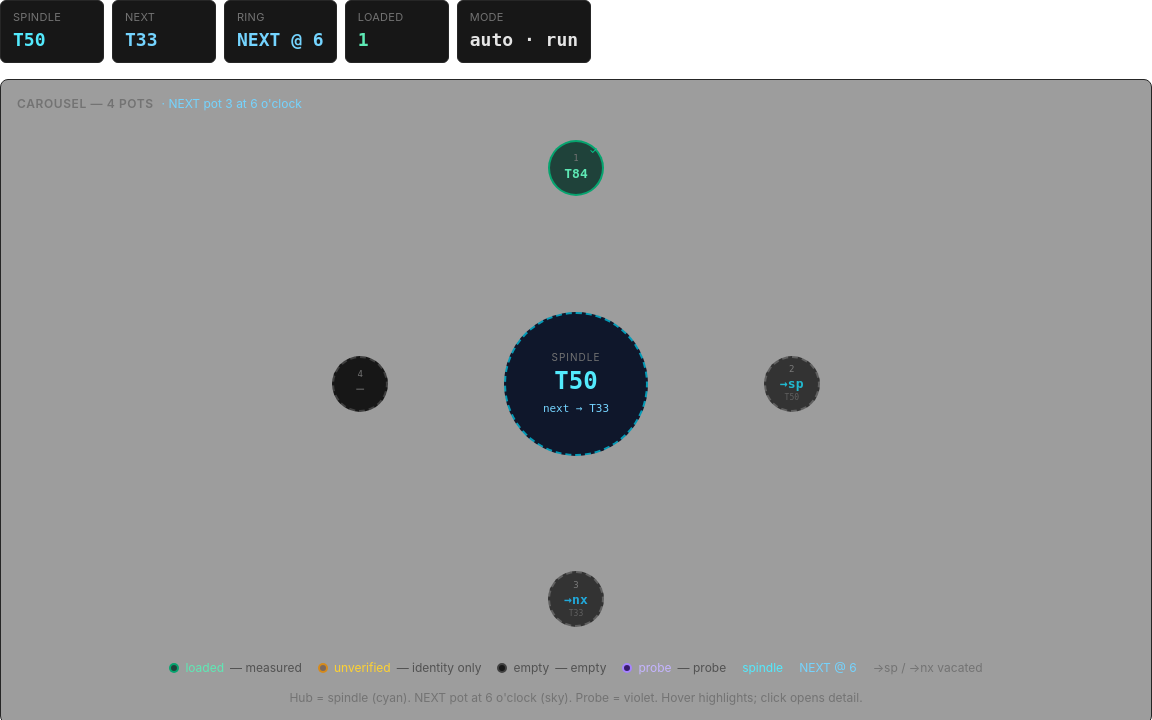
it: PotMap spindle/NEXT overlay › opens detail drawer on pot click
Click the list item named "Pot 1 loaded tool T84" at x=576, y=168, box [548,140,604,196]
(page scrolled)
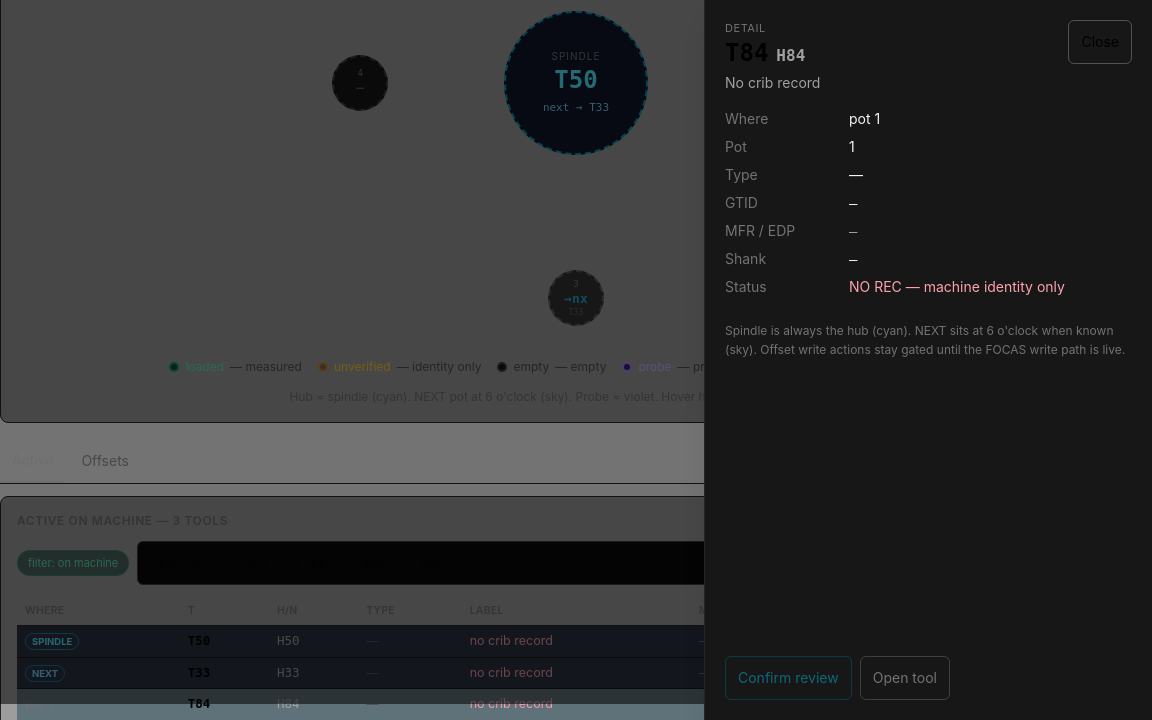
Check: the dialog is shown, box [704,0,1151,719]
Check: the heading "T84H84" is shown, box [725,38,805,66]
Click the button "Close" at x=1100, y=42, box [1068,20,1132,64]
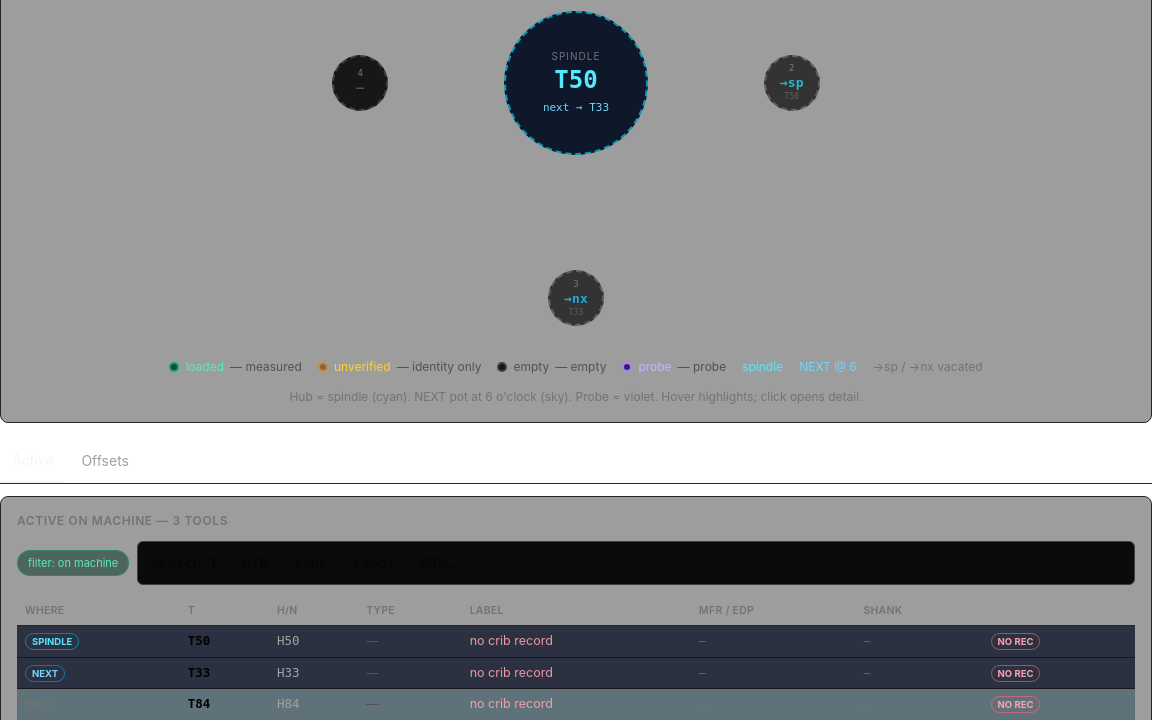
Check: the dialog is gone
